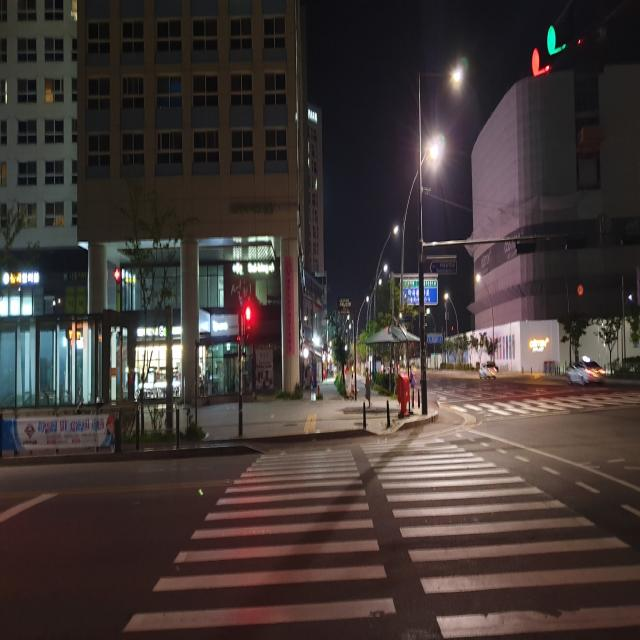빨간불: (244, 306, 253, 346)
횡단보도: (118, 435, 640, 640)
